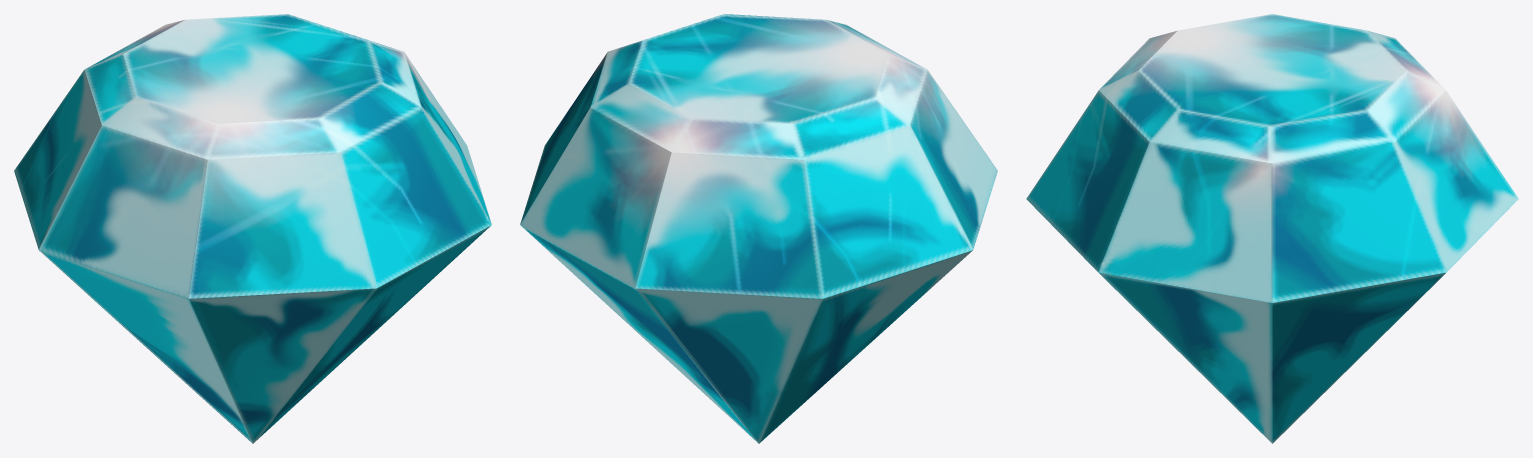
File: stone_blue_004.fbx
The picture shows the model from 3 angles, left to right: view 1: azimuth 30°, elevation 25°; view 2: azimuth 150°, elevation 25°; view 3: azimuth 270°, elevation 25°; orthographic projection.
Parts seen in each view (by area): view 1: stone; view 2: stone; view 3: stone.
Boxes of the visible parts, <box> form: stone: <box>14,14,491,443</box>; stone: <box>520,14,997,443</box>; stone: <box>1026,14,1518,443</box>.
Bounding box in the file's own units: 6.85 × 5.73 × 6.85.
